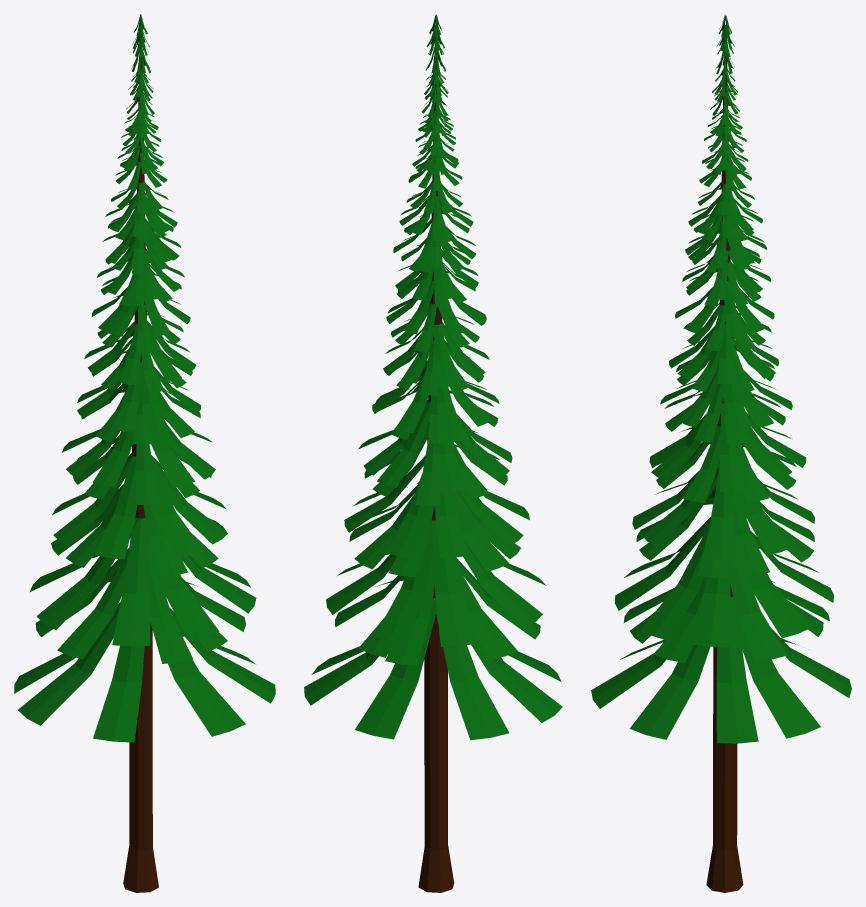
Rendered from Conifer.skinny.fbx.
The picture shows the model from 3 angles, left to right: view 1: azimuth 30°, elevation 25°; view 2: azimuth 150°, elevation 25°; view 3: azimuth 270°, elevation 25°; orthographic projection.
Visible parts, largest first — view 1: Conifer.skinny; view 2: Conifer.skinny; view 3: Conifer.skinny.
Boxes of the visible parts, <box> form: Conifer.skinny: <box>14,14,275,892</box>; Conifer.skinny: <box>304,14,562,892</box>; Conifer.skinny: <box>591,14,851,892</box>.
Size of the model in its own units: 0.3867 by 1.41 by 0.3826.
